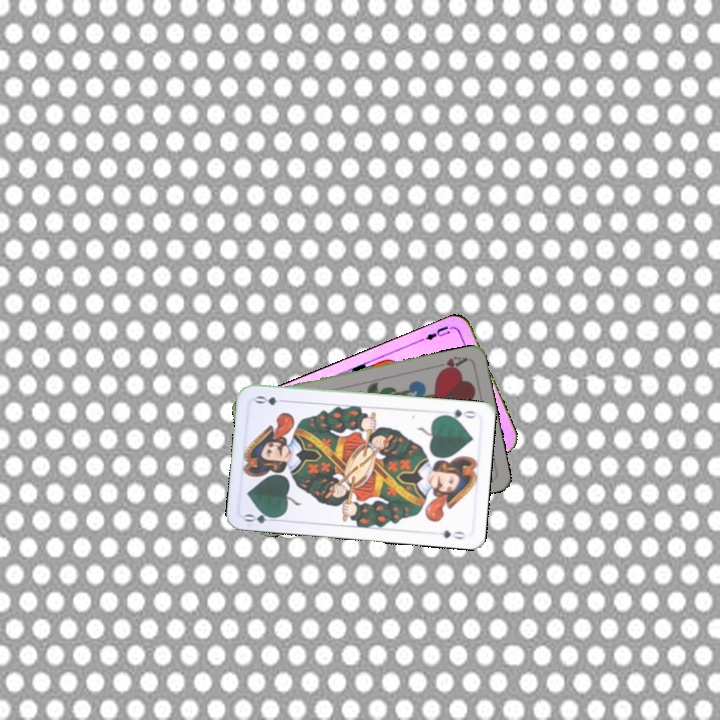EU: (417, 322, 452, 344)
GO: (241, 507, 282, 526), (438, 405, 479, 422)
HA: (434, 352, 470, 375)
